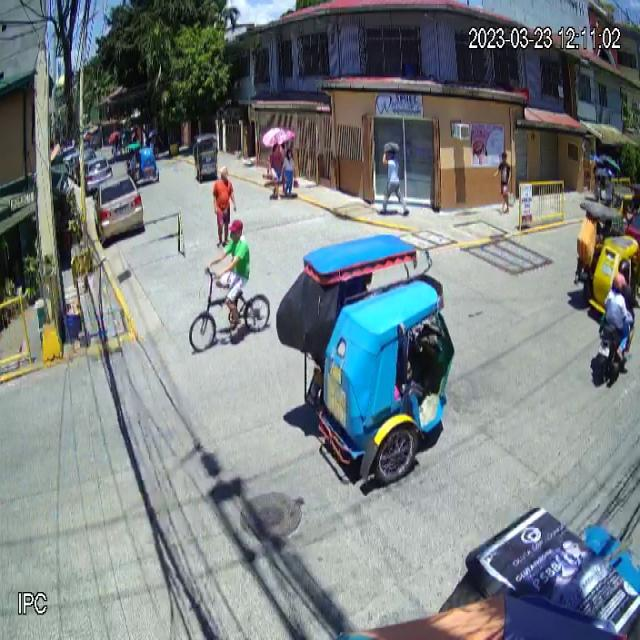Tricycle: (276, 236, 459, 487)
